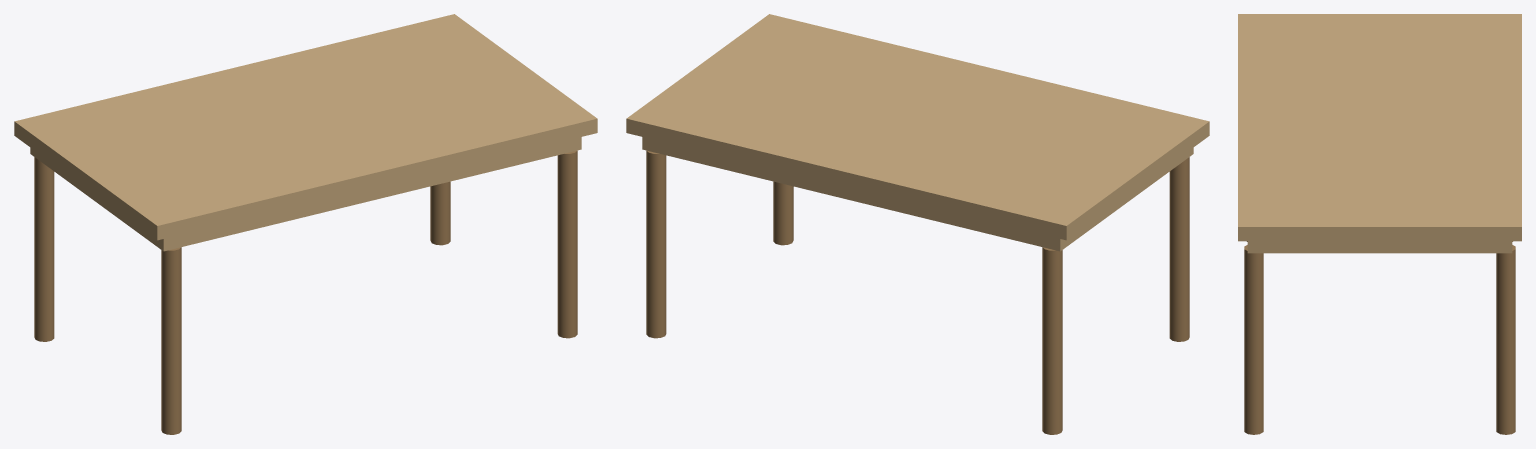
Rendered from dining-table.glb.
3 views of the same model, side by side, from view 1: azimuth 30°, elevation 25°; view 2: azimuth 150°, elevation 25°; view 3: azimuth 270°, elevation 25° (orthographic).
Size of the model in its own units: 1.6 by 0.75 by 0.9.
